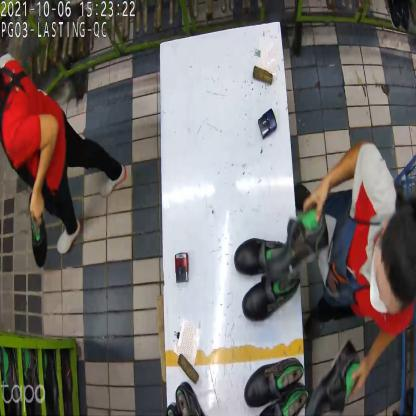shoes: (234, 237, 300, 323), (245, 356, 306, 415)
stamp: (173, 251, 192, 284), (258, 107, 276, 141)
